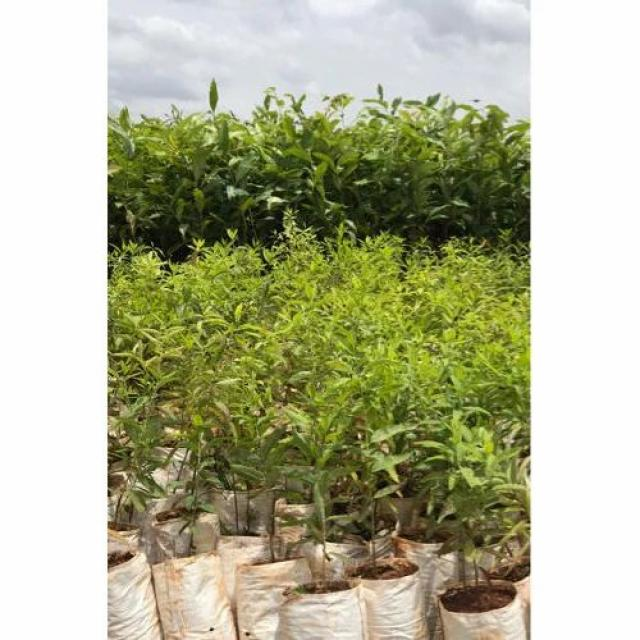Medicinal-Sandalwood: (113, 221, 524, 525), (104, 66, 526, 232)
